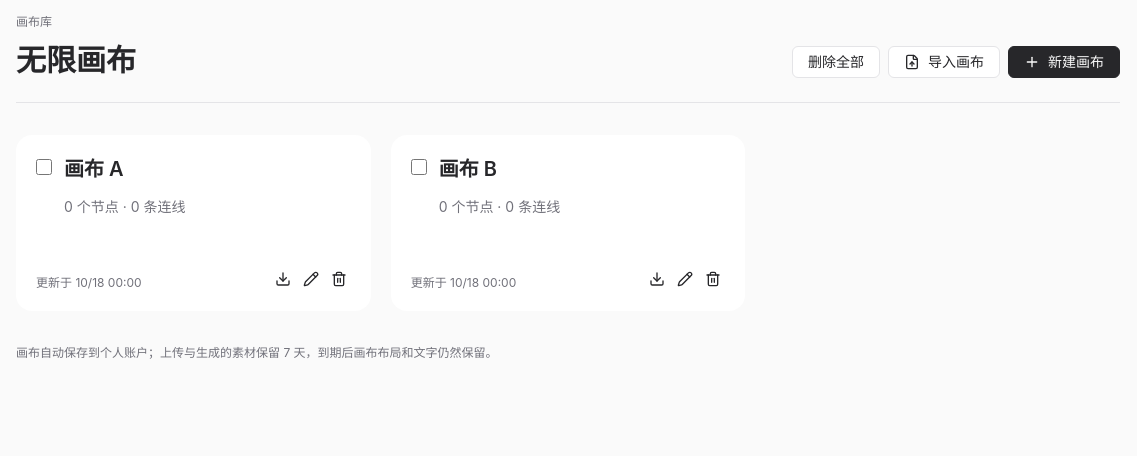
Test: 画布库云端操作失败恢复 › 只将明确 CANVAS_NOT_FOUND 视为已删除，普通路由 404 仍显示失败
The image size is (1137, 456).
Click the 1st checkbox at (44, 167), box [36, 159, 52, 175]
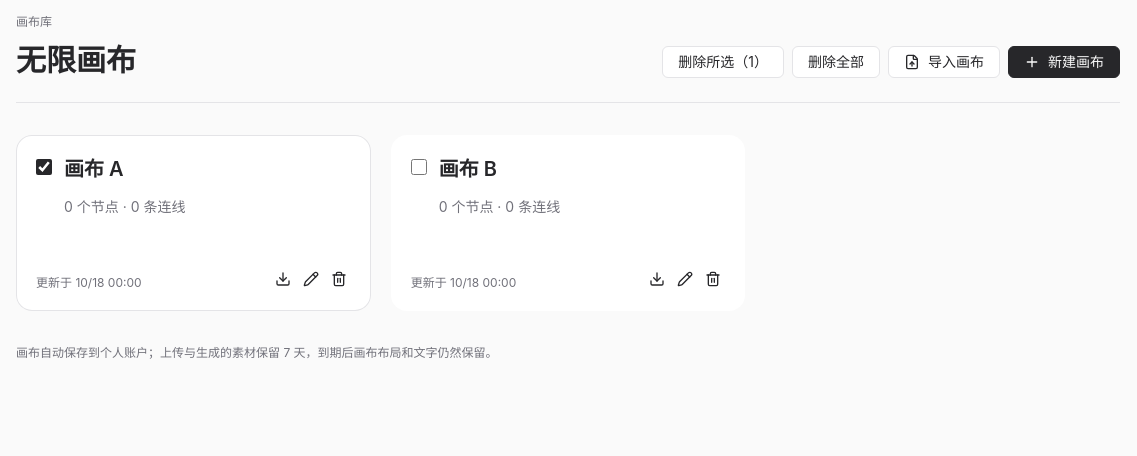
Click the 2nd checkbox at (419, 167), box [411, 159, 427, 175]
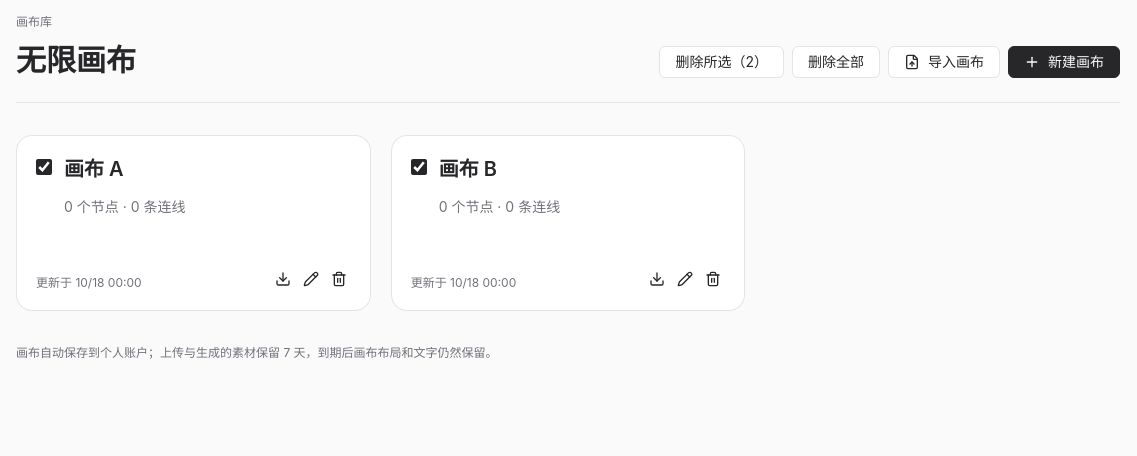
Click the button "删除所选（2）" at (722, 62), box [660, 46, 784, 78]
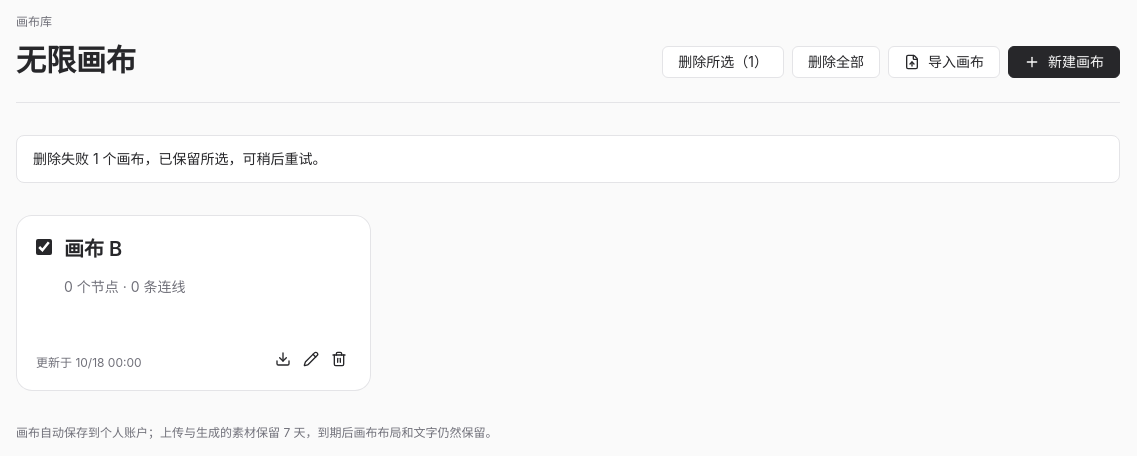
Now the message "删除失败 1 个画布，已保留所选，可稍后重试。" is shown, box [16, 135, 1120, 183]
